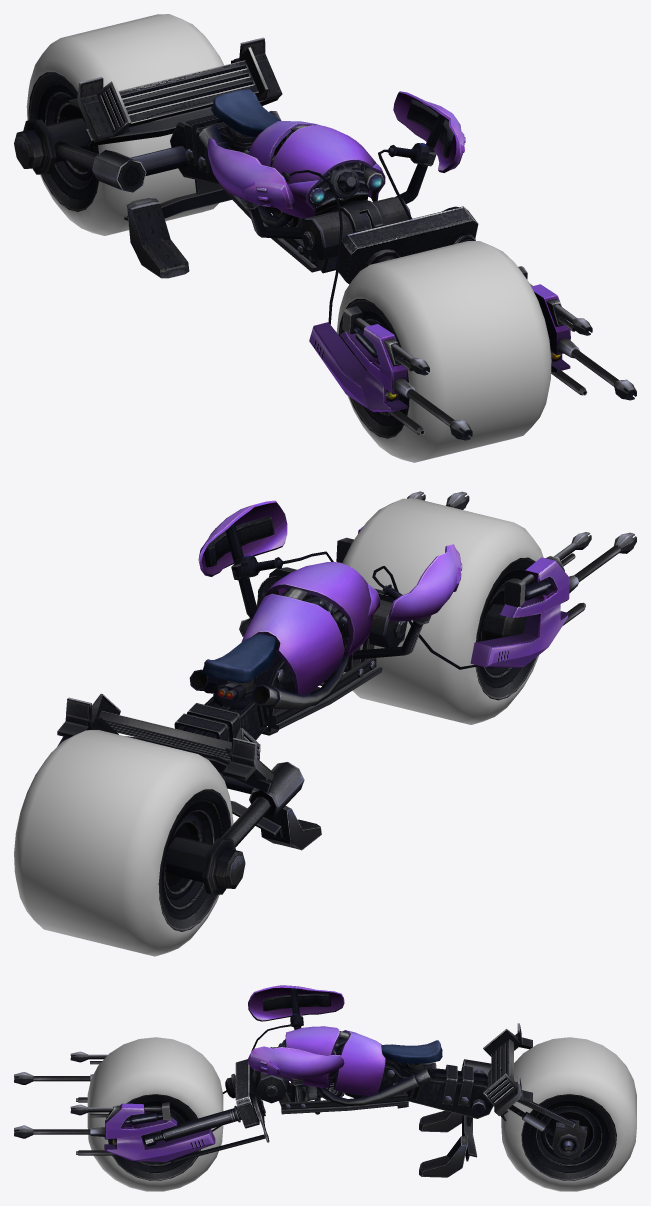
The model's file is motor_14_sub.FBX.
3 views of the same model, one above another, from view 1: azimuth 30°, elevation 25°; view 2: azimuth 150°, elevation 25°; view 3: azimuth 270°, elevation 25° (orthographic). The views are drawn at different scales.
Visible parts, largest first — view 1: f_wheel, body_metal, body, b_wheel, f_axle, steer, b_wheel01, f_wheel01; view 2: b_wheel, body_metal, f_wheel, body, f_axle, b_wheel01, f_wheel01, steer; view 3: body_metal, body, b_wheel, f_wheel, f_axle, b_wheel01, steer, f_wheel01.
Boxes of the visible parts, x1=… form: f_wheel: x1=336, y1=241, x2=551, y2=462; body_metal: x1=14, y1=37, x2=445, y2=278; body: x1=207, y1=89, x2=465, y2=324; b_wheel: x1=26, y1=14, x2=223, y2=235; f_axle: x1=309, y1=234, x2=636, y2=440; steer: x1=301, y1=197, x2=478, y2=284; b_wheel01: x1=28, y1=72, x2=98, y2=211; f_wheel01: x1=338, y1=299, x2=409, y2=438; b_wheel: x1=14, y1=730, x2=233, y2=956; body_metal: x1=57, y1=523, x2=430, y2=894; f_wheel: x1=342, y1=498, x2=543, y2=724; body: x1=198, y1=500, x2=478, y2=709; f_axle: x1=261, y1=491, x2=636, y2=667; b_wheel01: x1=158, y1=789, x2=231, y2=931; f_wheel01: x1=475, y1=557, x2=536, y2=700; steer: x1=239, y1=567, x2=407, y2=647; body_metal: x1=279, y1=988, x2=587, y2=1177; body: x1=211, y1=985, x2=442, y2=1131; b_wheel: x1=501, y1=1037, x2=636, y2=1191; f_wheel: x1=87, y1=1037, x2=223, y2=1191; f_axle: x1=14, y1=1051, x2=265, y2=1162; b_wheel01: x1=521, y1=1094, x2=616, y2=1180; steer: x1=225, y1=1047, x2=288, y2=1142; f_wheel01: x1=108, y1=1094, x2=200, y2=1180.
Size of the model in its own units: 0.9617 by 0.9595 by 3.4.
